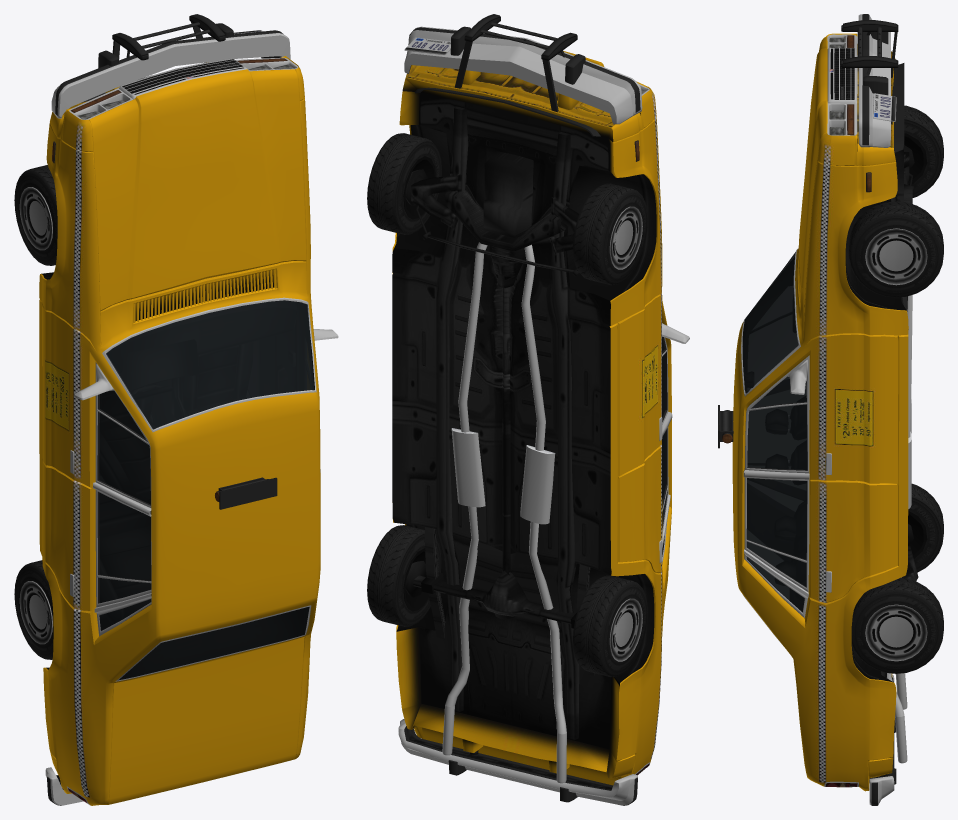
Rendered from taxi.glb.
The picture shows the model from 3 angles, left to right: view 1: azimuth 30°, elevation 25°; view 2: azimuth 150°, elevation 25°; view 3: azimuth 270°, elevation 25°; orthographic projection. The views are drawn at different scales.
Visible parts, largest first — view 1: body002_Bodymat_0, Hood002_Bodymat_0, trunk_door002_Bodymat_0, Interior_Trim002, Windshield002, Interior002, Trim001, Bumper_Front002, Glass_Body002, Glass_Rear002, Glass_Driver003, wheel_lf (+7 smaller); view 2: Bottom002, body002_Bodymat_0, Bumper_Front002, Suspension002, Front_Plate002_Bodymat_0, wheel_lf, wheel_lr, bumper_rear002, wheel_rf, wheel_rr, Bullbar001, Trim001 (+2 smaller); view 3: body002_Bodymat_0, Glass_Body002, wheel_rf, wheel_rr, Trim001, Windshield002, Glass_Passanger003, Bottom002, Interior002, Interior_Trim002, Front_Plate_Inner002, Hood002_Bodymat_0 (+12 smaller).
Part boxes in pixels (x1=…): body002_Bodymat_0: x1=39, y1=98, x2=320, y2=805; Hood002_Bodymat_0: x1=89, y1=69, x2=306, y2=311; trunk_door002_Bodymat_0: x1=108, y1=637, x2=304, y2=804; Interior_Trim002: x1=99, y1=300, x2=297, y2=623; Windshield002: x1=106, y1=300, x2=314, y2=429; Interior002: x1=99, y1=301, x2=314, y2=679; Trim001: x1=67, y1=297, x2=338, y2=805; Bumper_Front002: x1=51, y1=23, x2=290, y2=118; Glass_Body002: x1=99, y1=492, x2=151, y2=630; Glass_Rear002: x1=118, y1=607, x2=309, y2=680; Glass_Driver003: x1=99, y1=390, x2=150, y2=504; wheel_lf: x1=14, y1=165, x2=57, y2=265; Bottom002: x1=392, y1=92, x2=656, y2=783; body002_Bodymat_0: x1=392, y1=91, x2=671, y2=785; Bumper_Front002: x1=404, y1=26, x2=642, y2=124; Suspension002: x1=405, y1=169, x2=594, y2=675; Front_Plate002_Bodymat_0: x1=402, y1=65, x2=656, y2=142; wheel_lf: x1=573, y1=183, x2=647, y2=285; wheel_lr: x1=573, y1=575, x2=647, y2=676; bumper_rear002: x1=398, y1=719, x2=637, y2=805; wheel_rf: x1=367, y1=133, x2=441, y2=234; wheel_rr: x1=367, y1=525, x2=441, y2=626; Bullbar001: x1=454, y1=14, x2=577, y2=112; Trim001: x1=635, y1=323, x2=689, y2=774; body002_Bodymat_0: x1=732, y1=160, x2=908, y2=791; Glass_Body002: x1=746, y1=389, x2=807, y2=612; wheel_rf: x1=849, y1=201, x2=943, y2=297; wheel_rr: x1=851, y1=578, x2=943, y2=673; Trim001: x1=741, y1=249, x2=858, y2=786; Windshield002: x1=742, y1=252, x2=798, y2=393; Glass_Passanger003: x1=747, y1=376, x2=807, y2=469; Bottom002: x1=845, y1=150, x2=912, y2=763; Interior002: x1=742, y1=257, x2=806, y2=611; Interior_Trim002: x1=744, y1=296, x2=807, y2=602; Front_Plate_Inner002: x1=827, y1=34, x2=904, y2=152; Hood002_Bodymat_0: x1=799, y1=37, x2=827, y2=307.
Bounding box in the file's own units: 1.83 × 5.07 × 1.44.
Materials: 8 (8 with a texture image).
